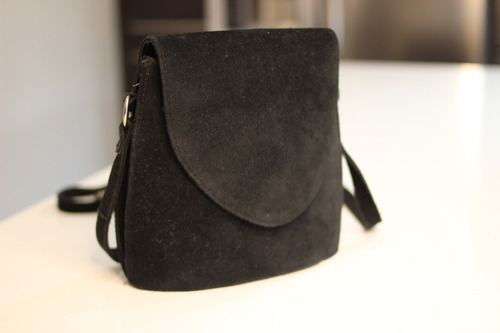cartera: (54, 18, 409, 296)
gamuza: (201, 86, 311, 176)
